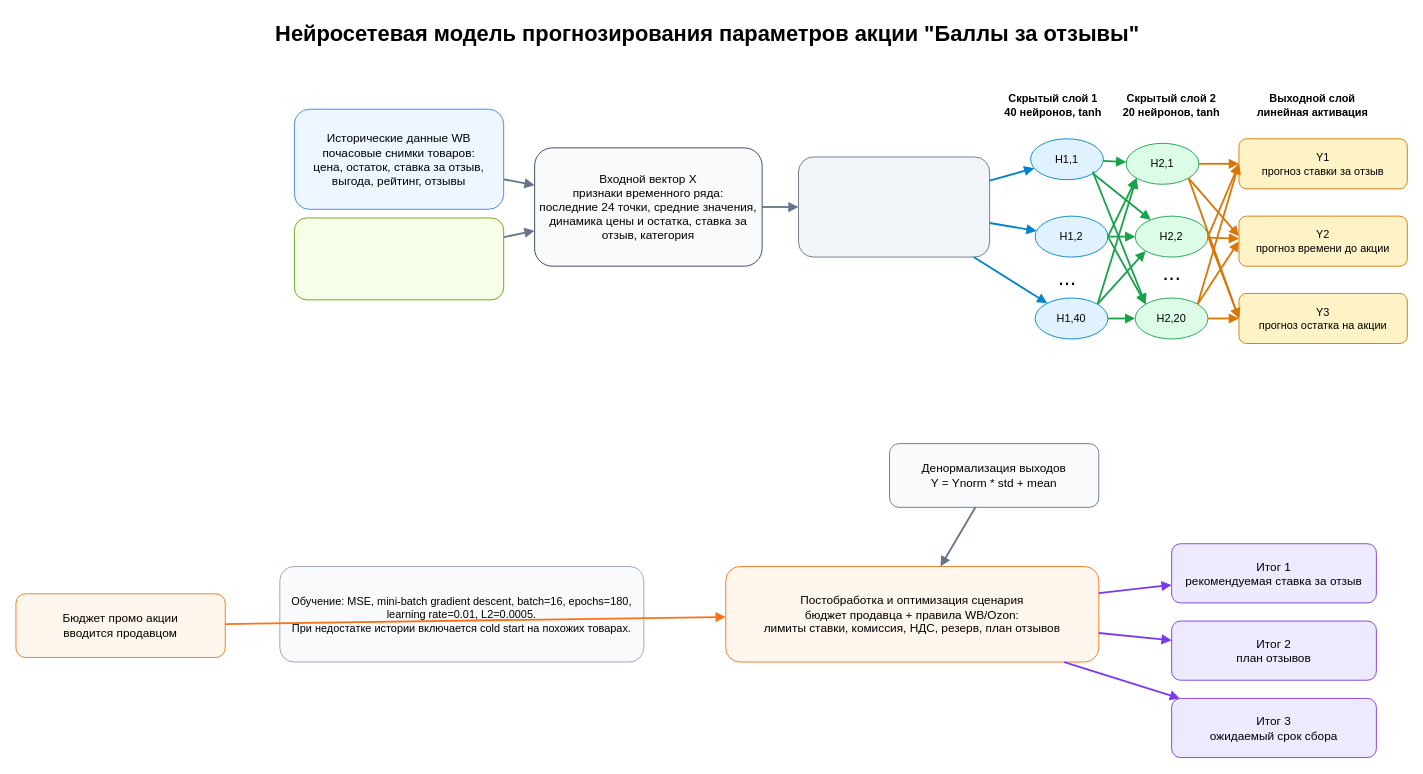
This 1423x774 diagram has some shape labels left out. The centre of each missing label's shape, as x and y in pixels:
Нормализация Xnorm = (X - mean) / std целевые Y тоже нормализуются при обучении: (894,206)
Товар продавца категория, артикул, базовая цена, текущий остаток: (398,258)
